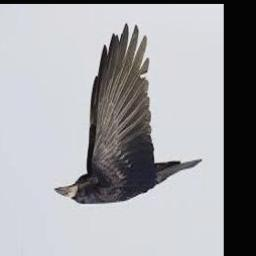Crow: (53, 26, 202, 205)
